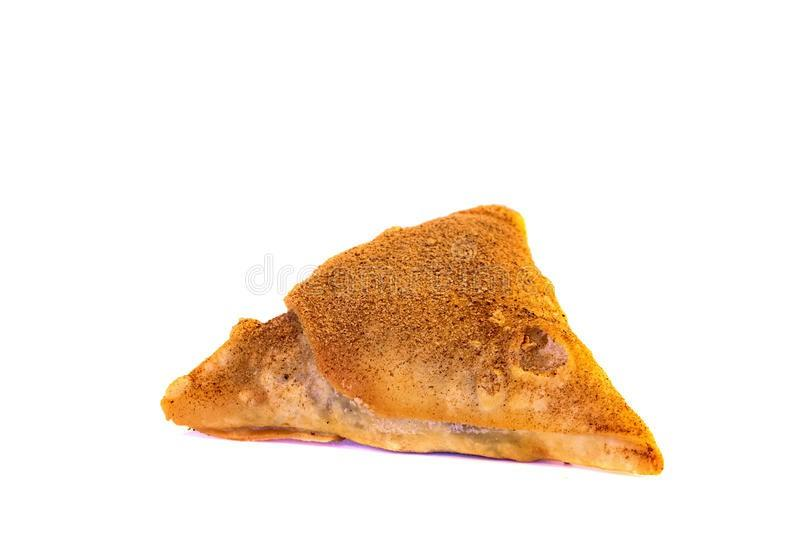Samosa: (163, 204, 666, 476)
